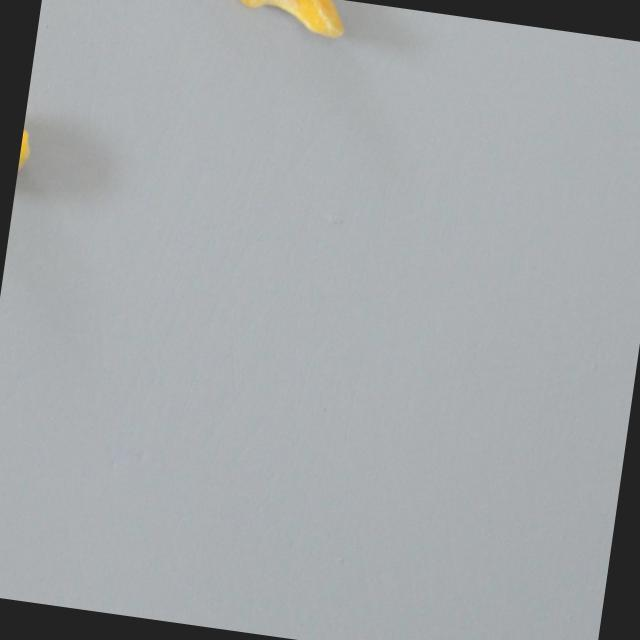dañado: (213, 0, 354, 45), (14, 103, 42, 198)
